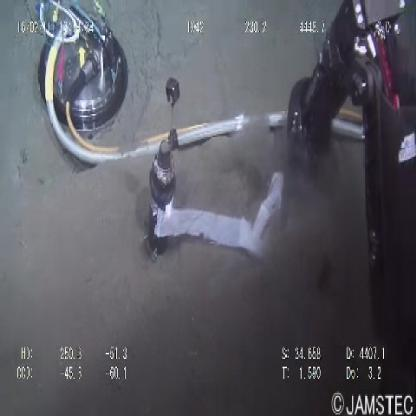Rov: (284, 1, 416, 209), (35, 2, 132, 172)
Rác: (146, 169, 324, 270)
